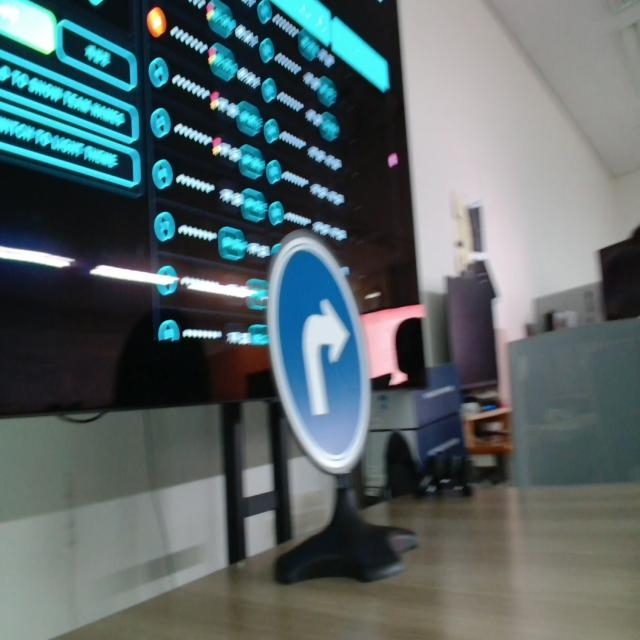right_dierection: (261, 230, 374, 482)
